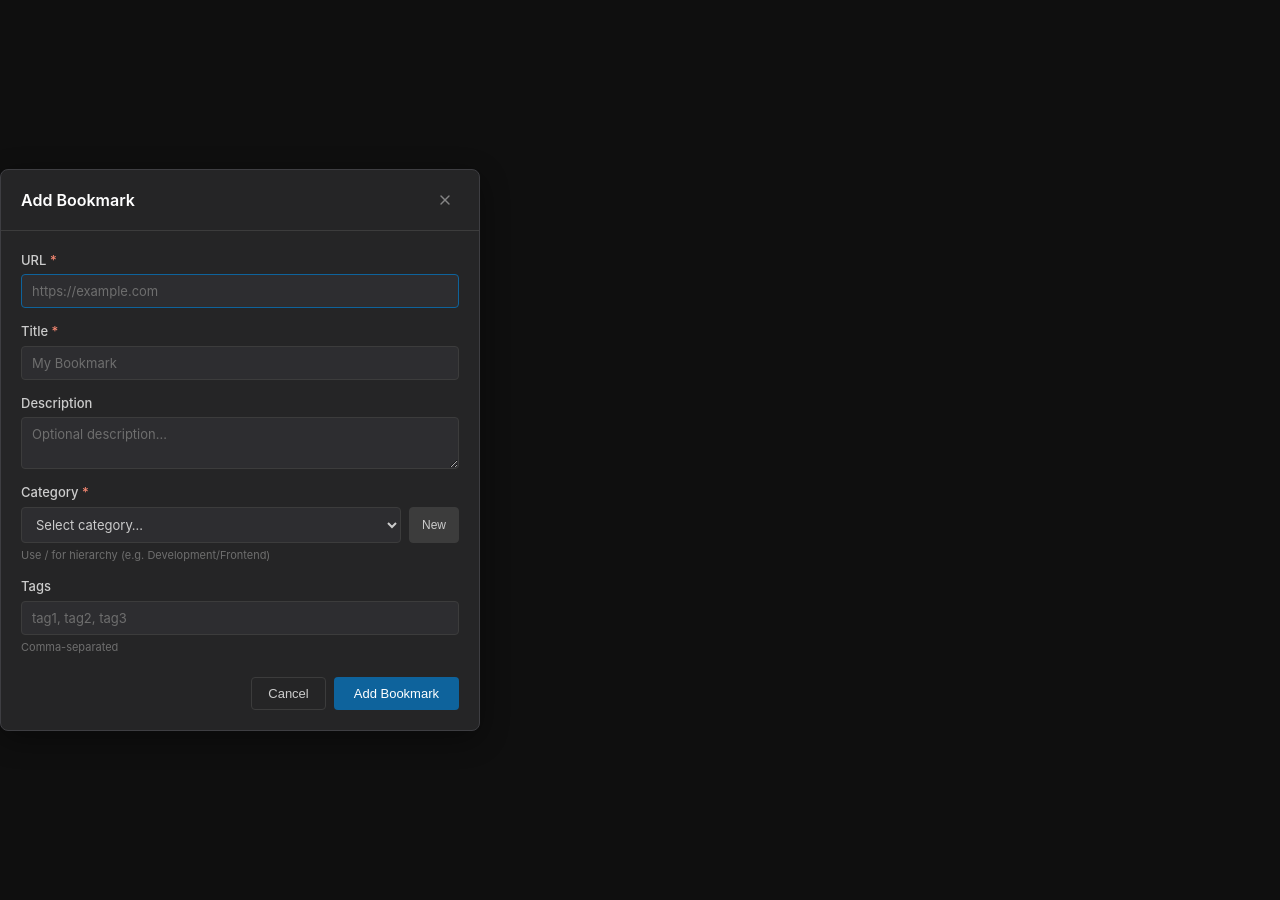
BookmarkDialog › allows switching to new category mode
Expected: the dropdown showing "Select category…" is shown, top-left (21, 507), bottom-right (401, 543)
Click the button "New": (434, 525) top-left (409, 507), bottom-right (459, 543)
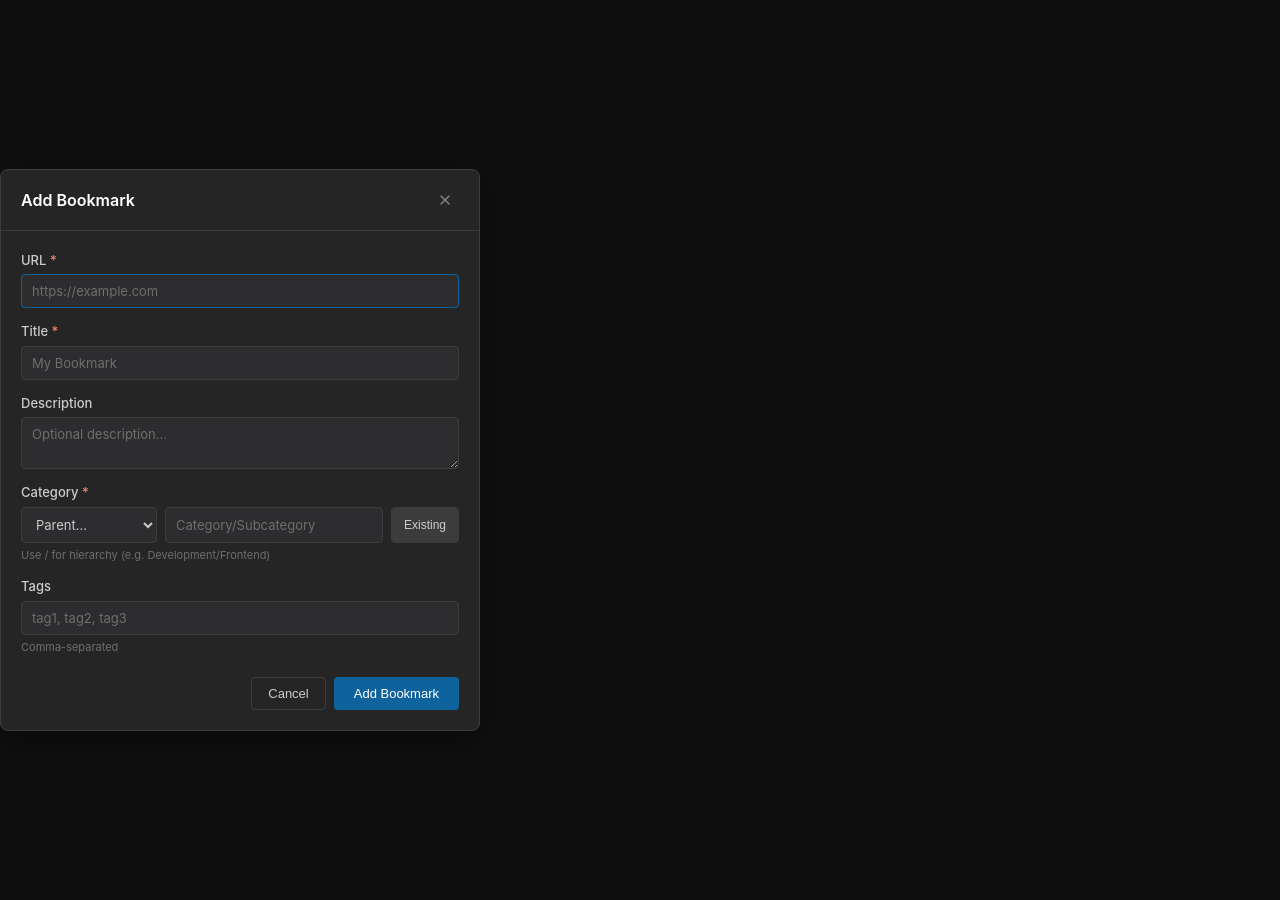
Result: the field with placeholder "Category/Subcategory" is shown at top-left (165, 507), bottom-right (383, 543)
